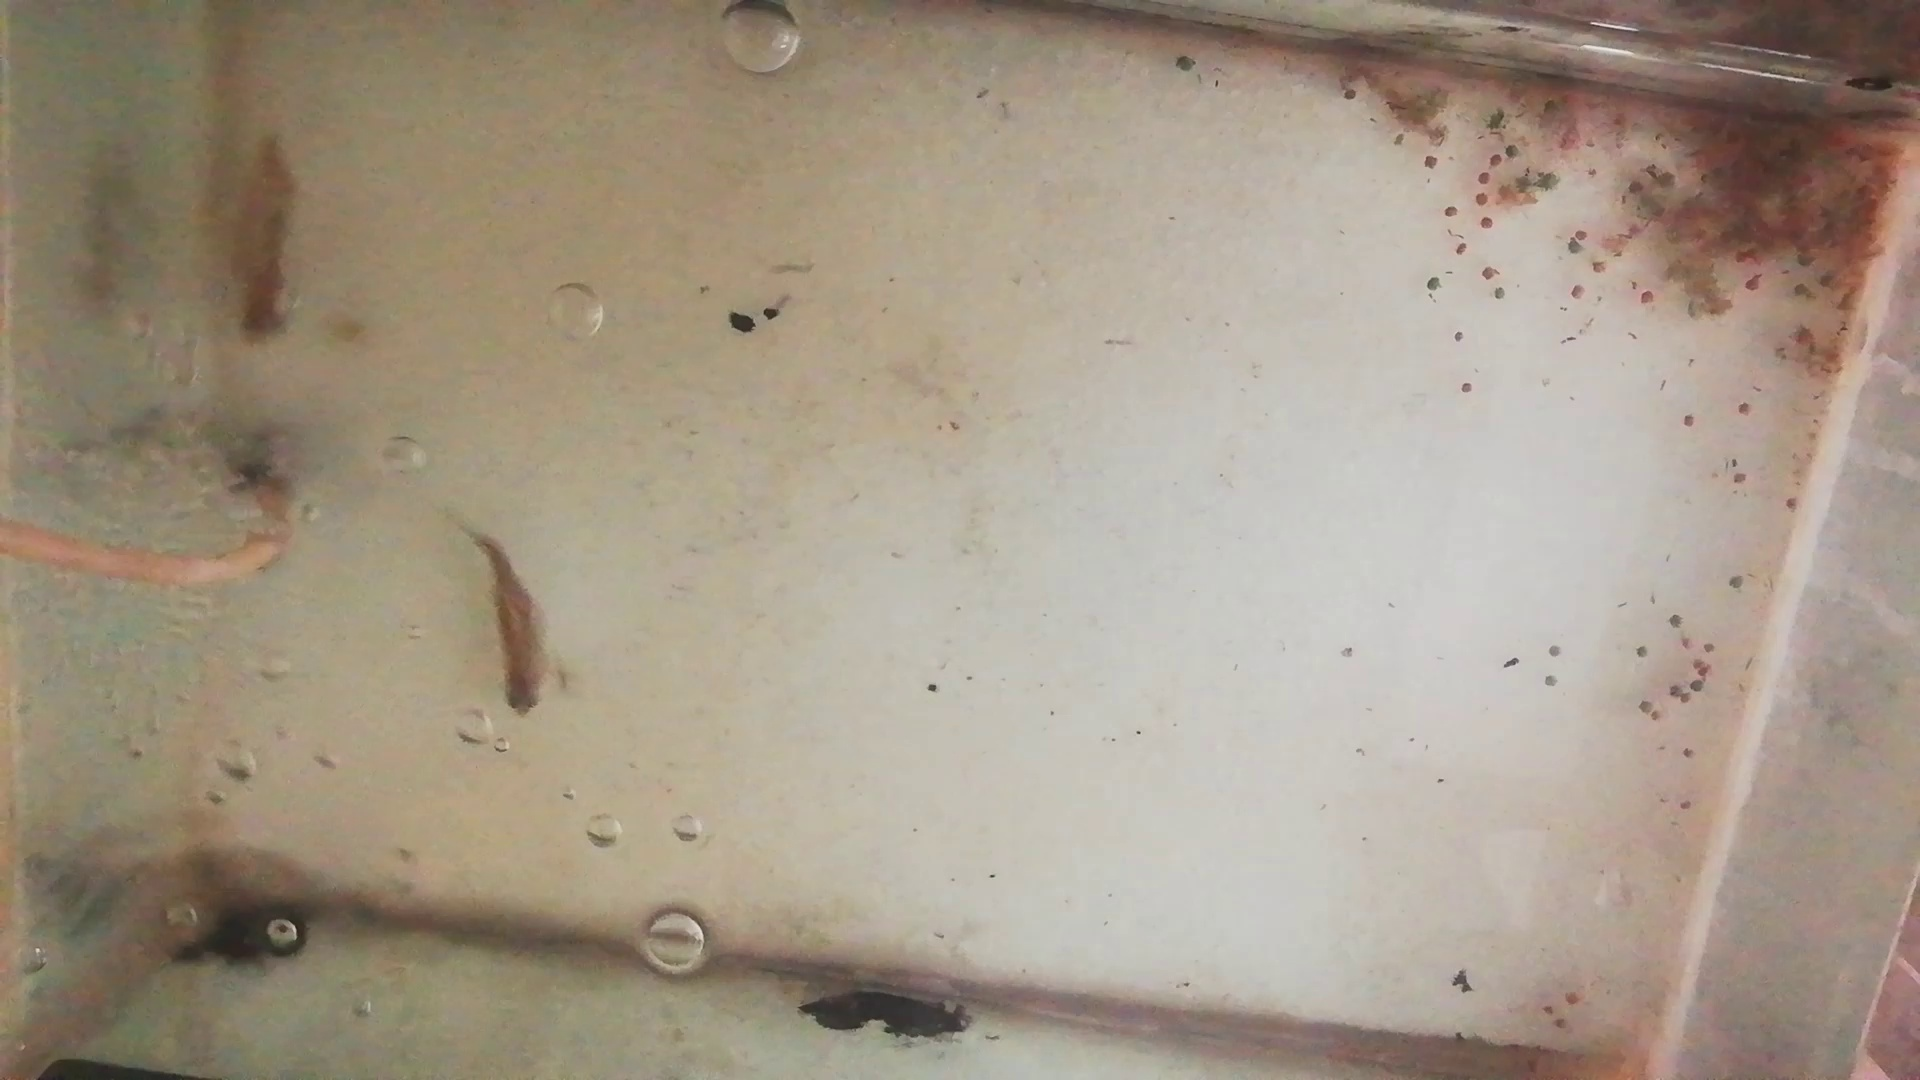fish: (233, 133, 302, 344), (475, 535, 549, 720)
